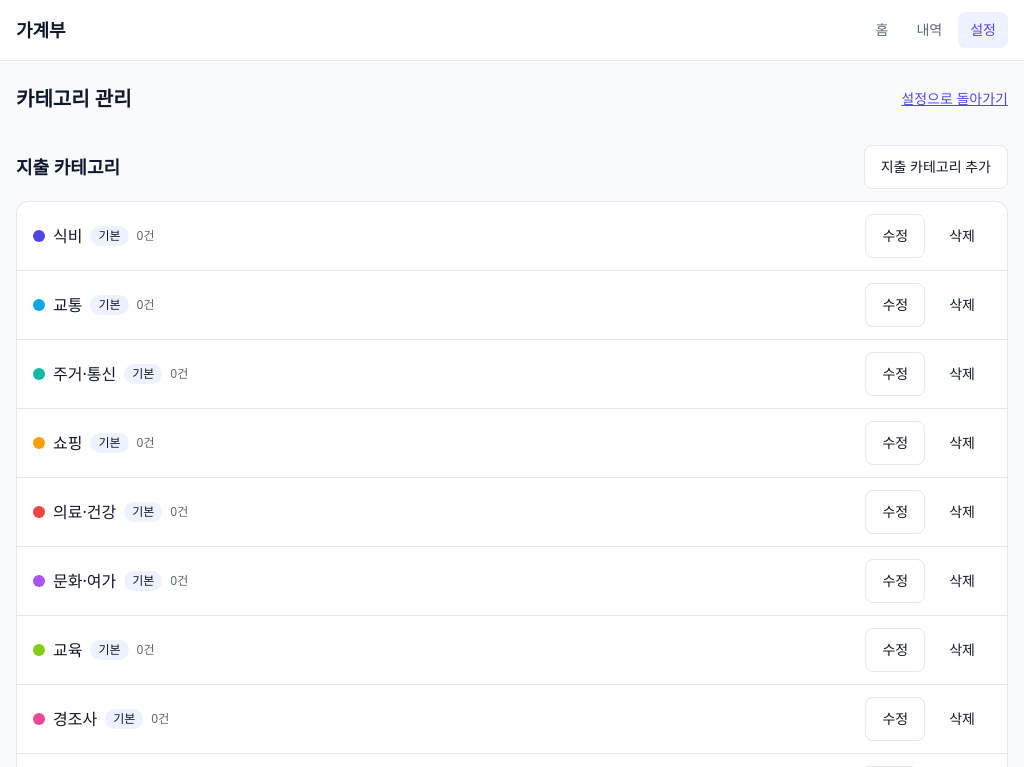
카테고리 변경 실패 › 다른 탭에서 이미 삭제된 카테고리를 수정하려 하면 오류 알림을 보여 준다
The width and height of the screenshot is (1024, 767).
Check: the heading "카테고리 관리" is shown, box [16,85,132,113]
Step 1. Click the button with aria-label "지출 카테고리 교통 수정" → (895, 305), box [866,283,925,327]
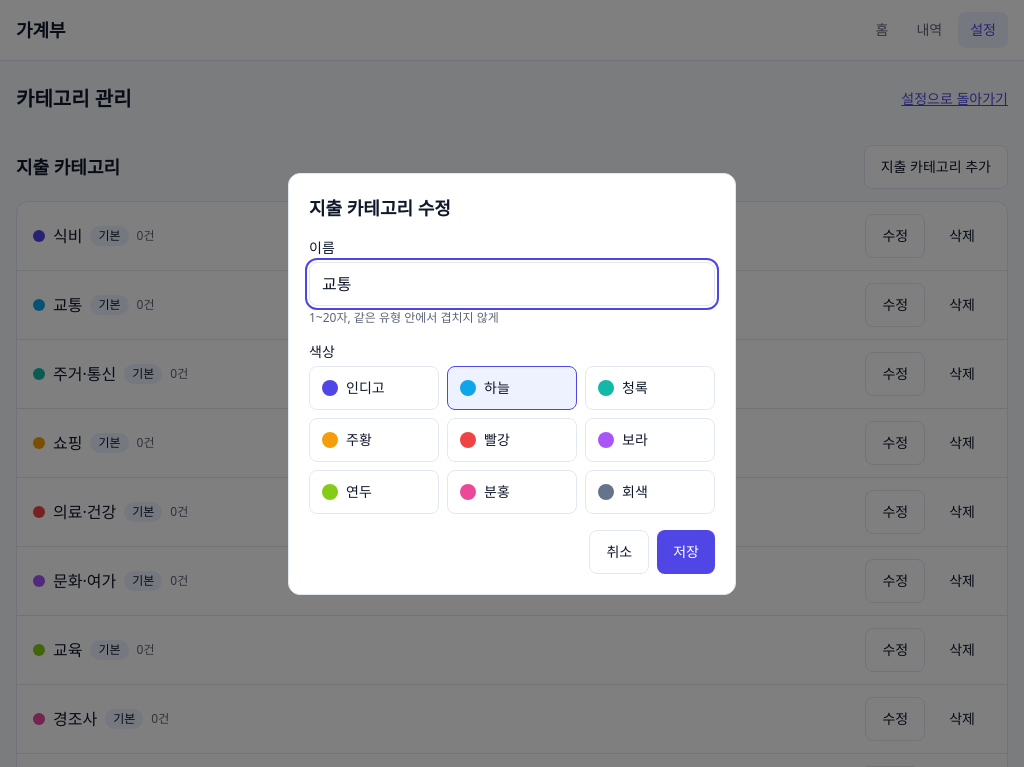
Step 2. Click the button "저장" → (686, 552), box [657,530,715,574]
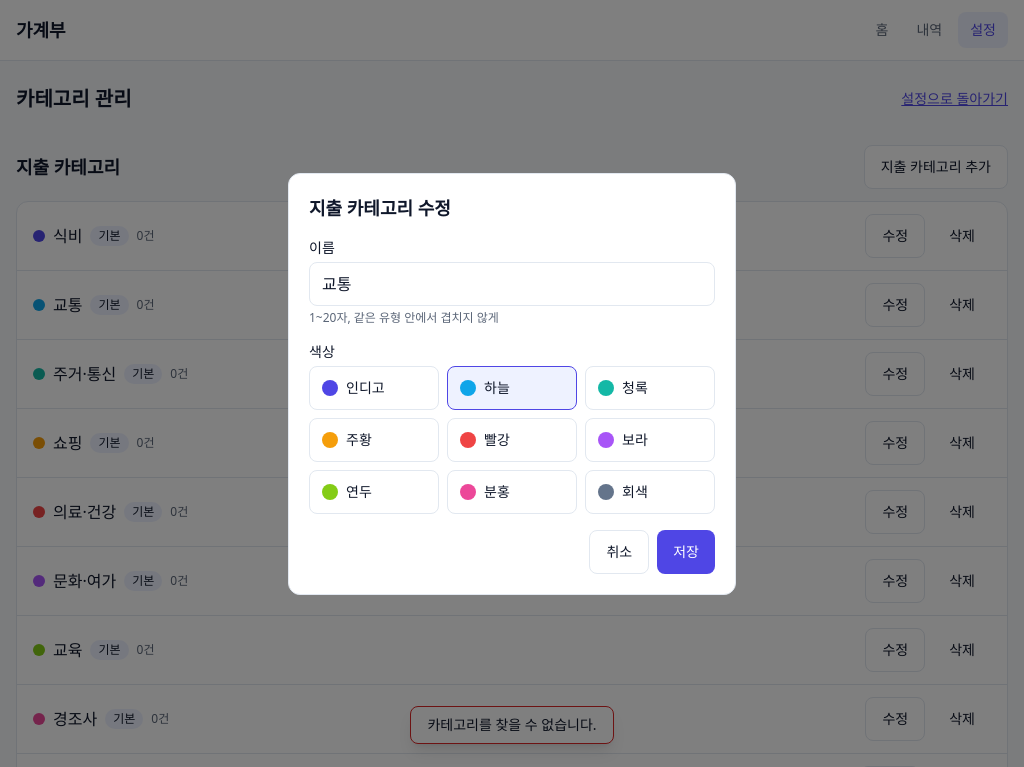
Check: the message reads "카테고리를 찾을 수 없습니다.", box [427,715,597,734]
